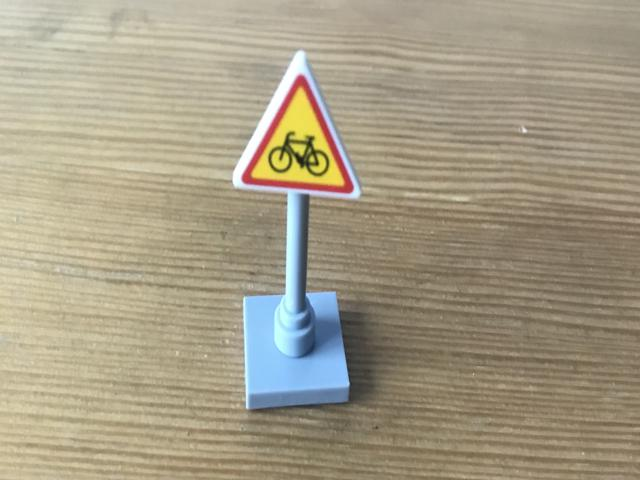radfahrer: (234, 56, 364, 202)
